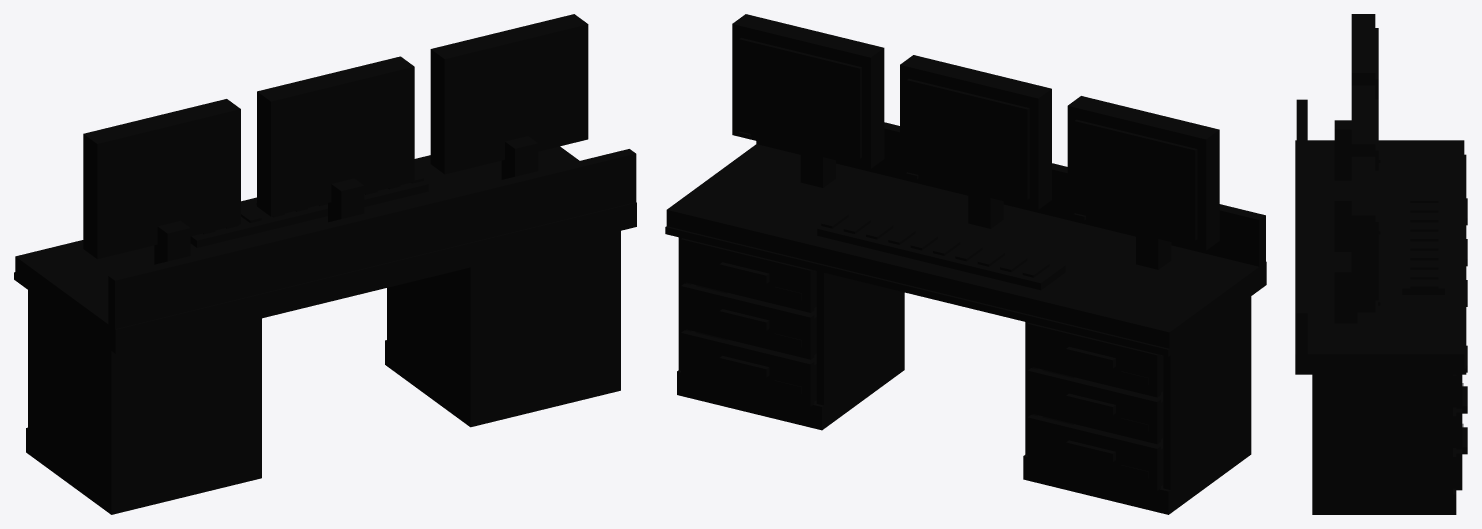
File: lab_control_console.obj
3 views of the same model, side by side, from view 1: azimuth 30°, elevation 25°; view 2: azimuth 150°, elevation 25°; view 3: azimuth 270°, elevation 25° (orthographic). The views are drawn at different scales.
Size of the model in its own units: 0.875 by 0.5639 by 0.2975.
